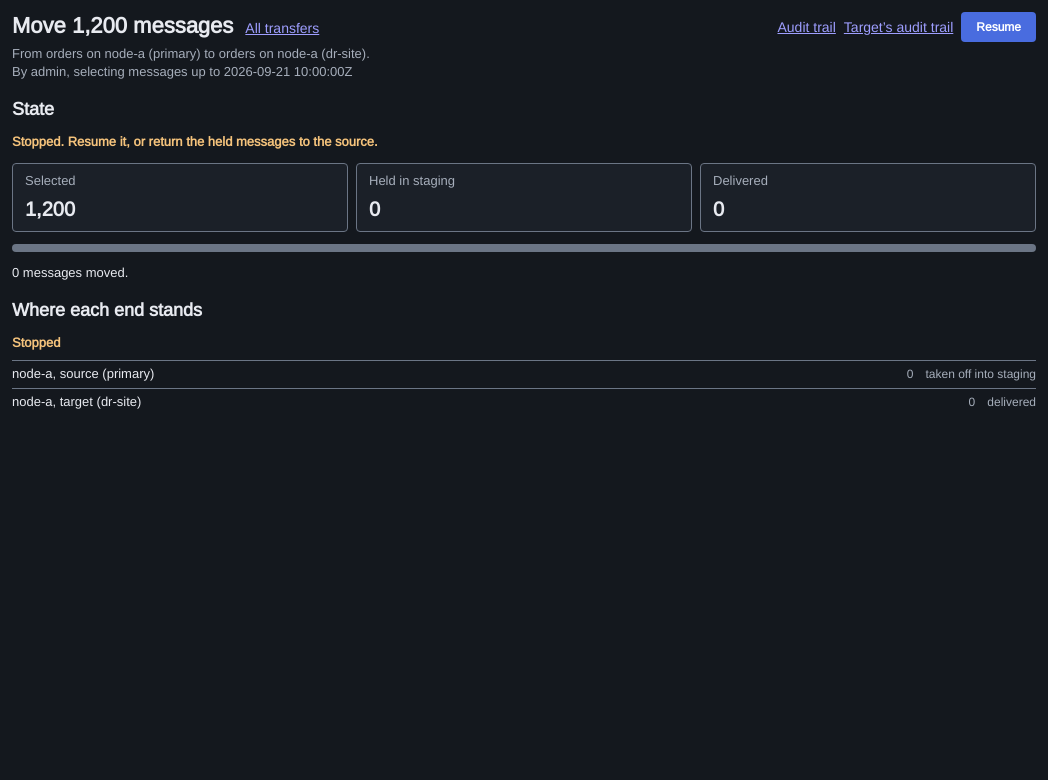
Test: TransferRunView commands › says a command that failed did nothing further, with its cause
Click the button "Resume": click(999, 27) [961,12,1036,42]
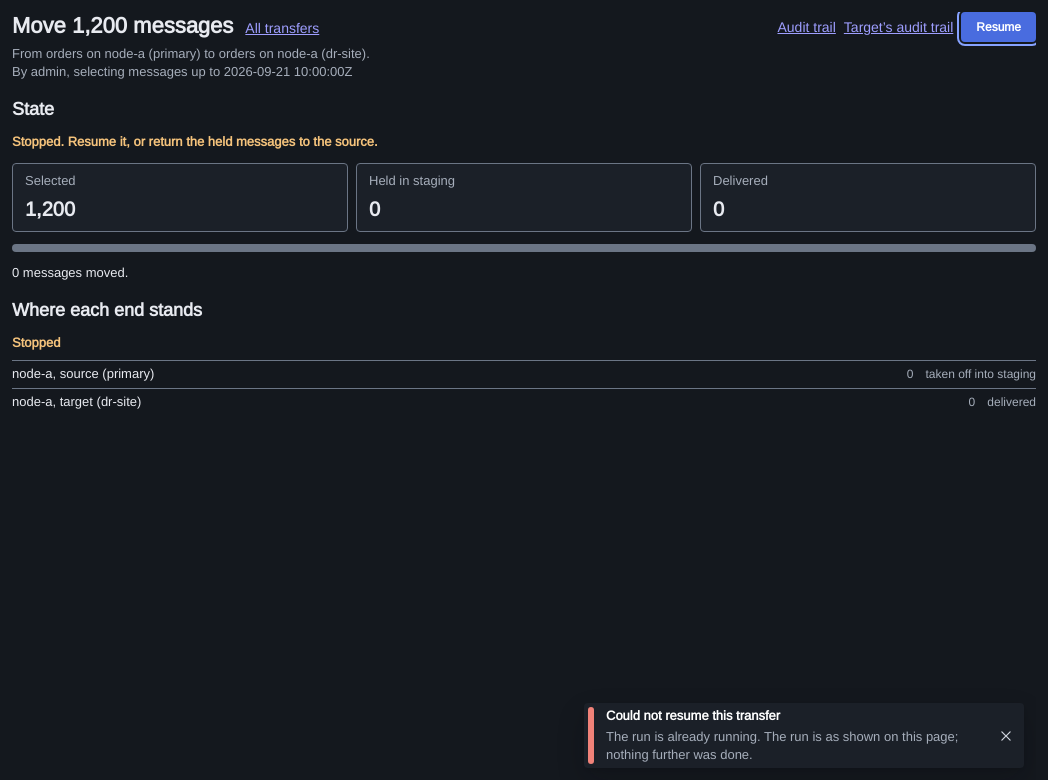
Expected: the message that starts with "Could not resume this transfer" is shown, [606,707,780,724]
Expected: the message that starts with "Could not resume this transfer" shows "The run is already running. The run is as shown on this page; nothing further was done.", [606,728,958,763]
